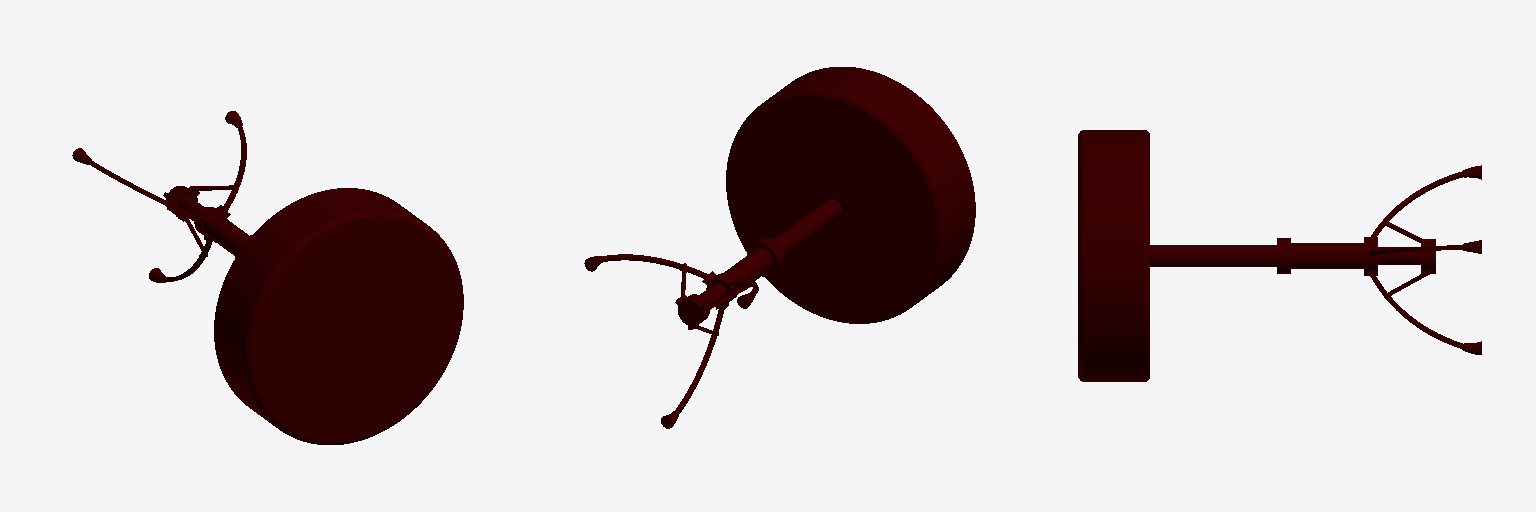
The model's file is SEAT.obj.
3 views of the same model, side by side, from view 1: azimuth 30°, elevation 25°; view 2: azimuth 150°, elevation 25°; view 3: azimuth 270°, elevation 25° (orthographic).
Visible parts, largest first — view 1: mesh128.001; view 2: mesh128.001; view 3: mesh128.001.
Boxes of the visible parts, <box> form: mesh128.001: <box>72,111,463,444</box>; mesh128.001: <box>584,67,975,428</box>; mesh128.001: <box>1078,130,1481,381</box>.
Bounding box in the file's own units: 0.35 × 0.35 × 0.5588.